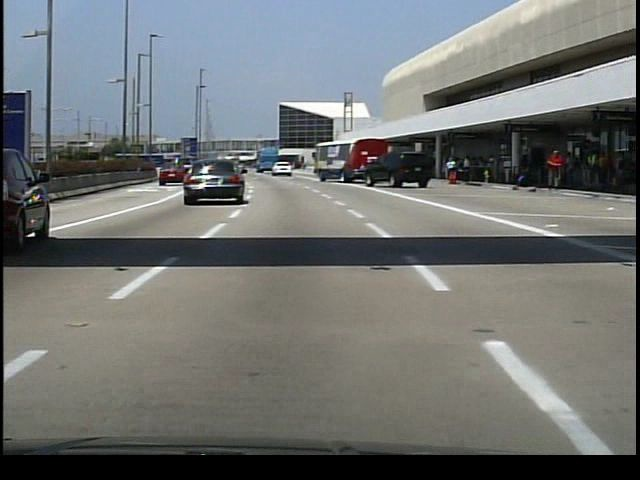person: (541, 146, 567, 192), (610, 154, 627, 191), (444, 157, 460, 188), (585, 149, 597, 189)
